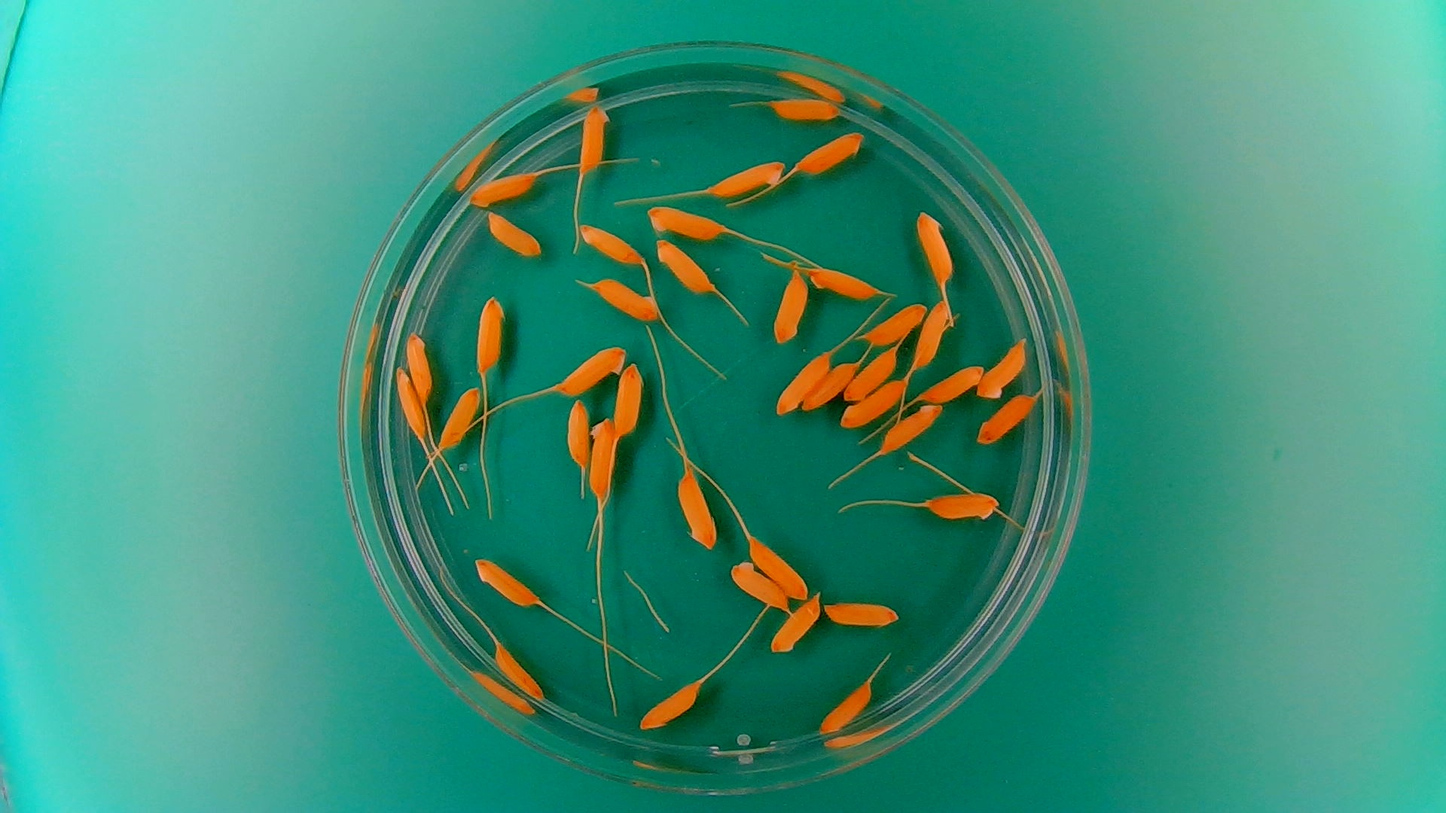no: (746, 534, 810, 600), (701, 154, 789, 200), (554, 343, 627, 398), (673, 468, 719, 555), (470, 554, 540, 611), (773, 349, 831, 416), (634, 678, 703, 734), (792, 128, 868, 178), (975, 392, 1041, 448), (653, 237, 715, 296), (839, 376, 908, 429), (976, 335, 1030, 402), (880, 402, 945, 457), (491, 639, 546, 704), (725, 557, 789, 612), (816, 678, 875, 737), (589, 275, 663, 322), (842, 344, 900, 403), (577, 221, 648, 269), (768, 593, 822, 656), (914, 208, 956, 287), (437, 384, 483, 454), (645, 201, 725, 241), (801, 358, 859, 413), (466, 166, 540, 209), (482, 209, 544, 260), (913, 297, 956, 369), (771, 267, 810, 346), (392, 366, 430, 447), (862, 300, 927, 347), (805, 262, 882, 301), (471, 291, 507, 374), (574, 100, 612, 177), (923, 488, 1002, 525), (585, 415, 618, 501), (402, 328, 438, 405), (823, 597, 902, 632), (611, 361, 645, 438), (764, 93, 844, 124), (563, 396, 590, 470)
